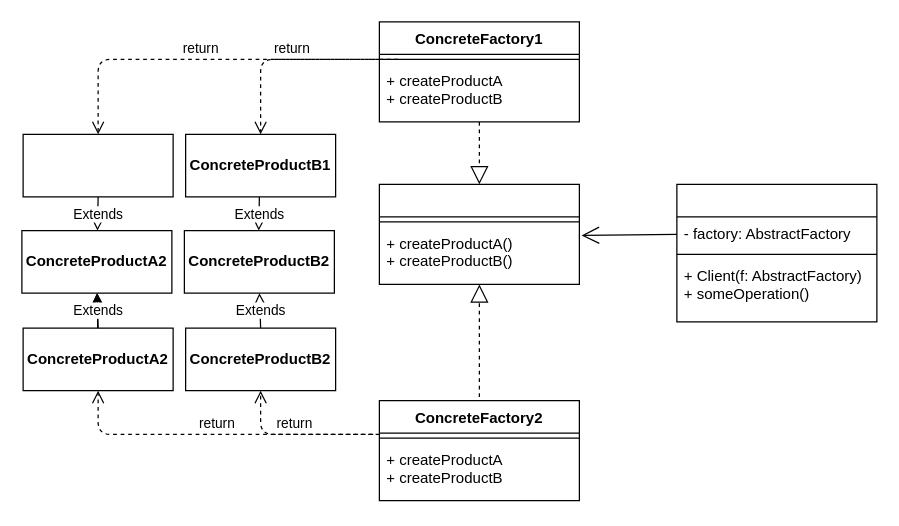
Some shapes in this 899 by 526 pixel diagram are drawn without their labels. Here are the shapes that lost their labels. From the top down, the box of each, then its label:
(22, 133, 173, 197): ConcreteProductA1
(378, 183, 579, 284): AbstractFactory
(676, 183, 877, 322): Classname
